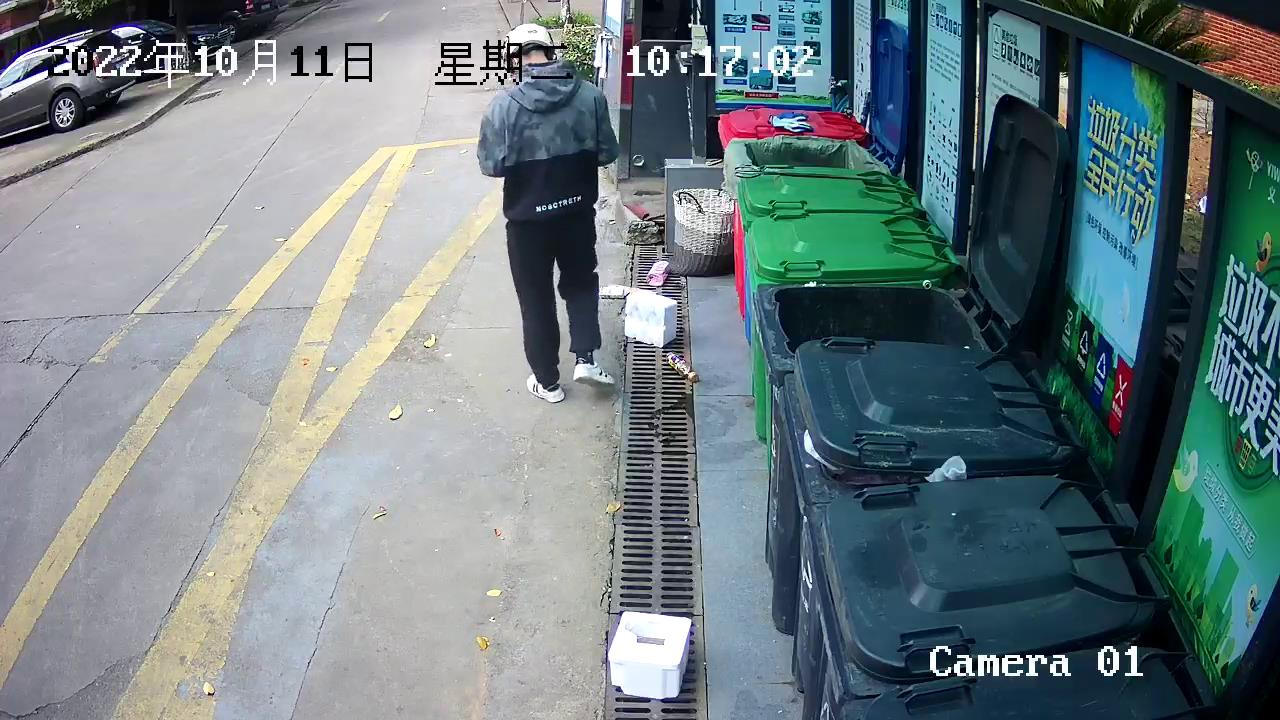paomozhipin: (604, 605, 697, 702)
person: (469, 19, 627, 406)
suliaozhipin: (665, 348, 702, 386), (641, 257, 674, 288)
zhizhipin: (622, 285, 680, 348)
